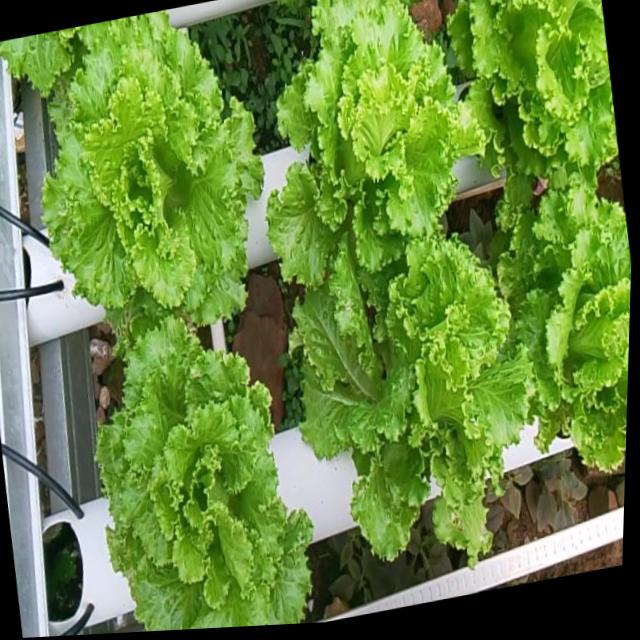Mature: (0, 11, 263, 341), (293, 229, 530, 559), (95, 310, 312, 631), (266, 0, 486, 300), (499, 183, 631, 466), (448, 0, 618, 184)
